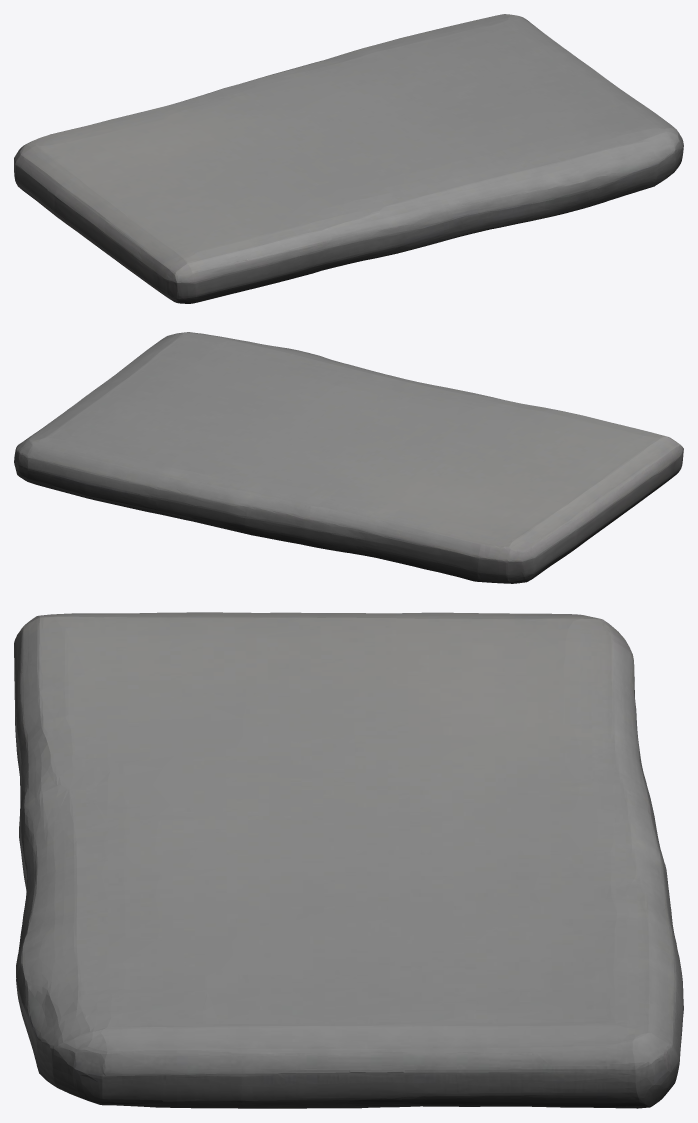
3 views of the same model, one above another, from view 1: azimuth 30°, elevation 25°; view 2: azimuth 150°, elevation 25°; view 3: azimuth 270°, elevation 25° (orthographic). The views are drawn at different scales.
Visible parts, largest first — view 1: geometry_0; view 2: geometry_0; view 3: geometry_0.
Part boxes in pixels (left/top/right/bottom): geometry_0: left=14, top=14, right=683, bottom=303; geometry_0: left=14, top=332, right=683, bottom=583; geometry_0: left=14, top=612, right=683, bottom=1108.
Size of the model in its own units: 0.9922 by 0.0749 by 0.6237.
1 material, 1 textured.
